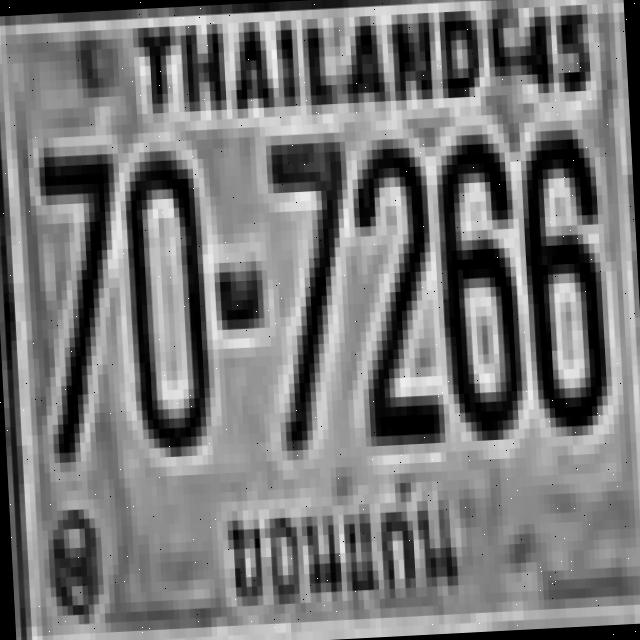0: (118, 140, 208, 449)
2: (348, 133, 437, 432)
6: (429, 124, 519, 433), (514, 120, 604, 428)
7: (263, 133, 353, 451), (33, 144, 123, 453)
KhonKaen: (214, 464, 467, 627)
